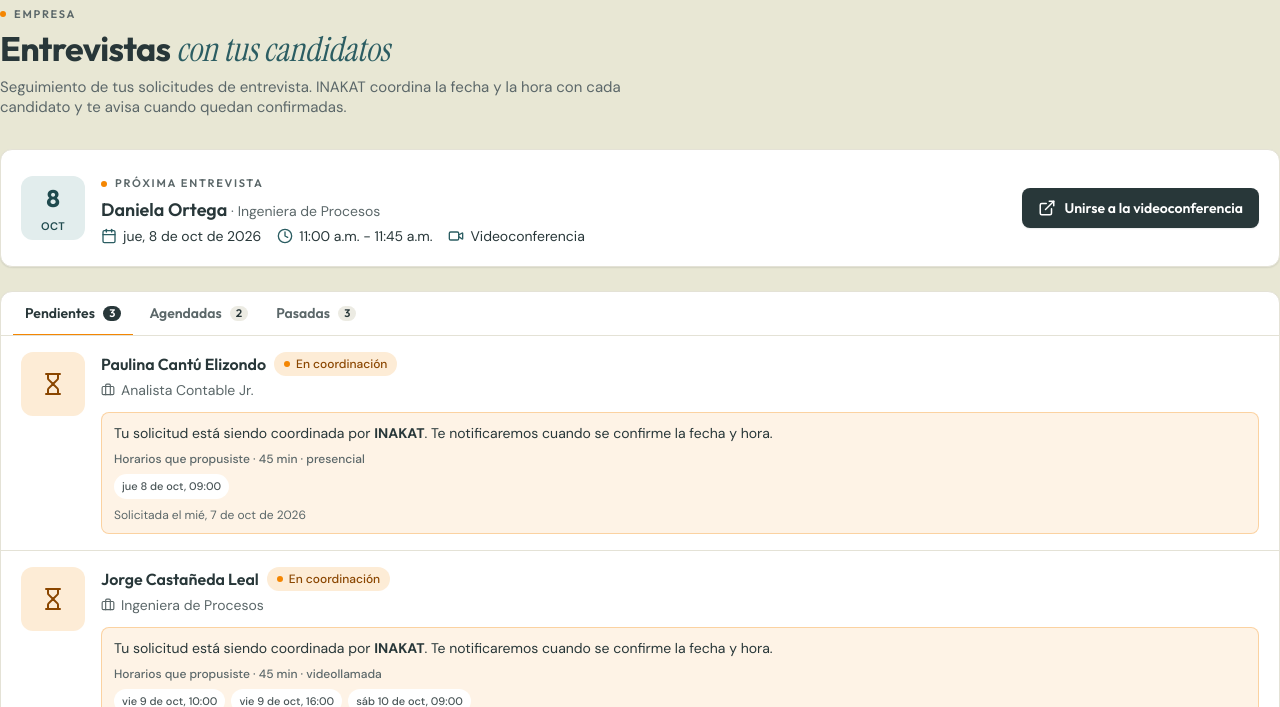
Test: Entrevistas › monta con la próxima entrevista y las pestañas
Expected: the heading "Entrevistas con tus candidatos" is shown, [0, 27, 390, 72]
Expected: the heading "Próxima entrevista" is shown, [101, 175, 264, 192]
Click the tab "Pasadas 3" at (316, 314), box [264, 292, 368, 336]
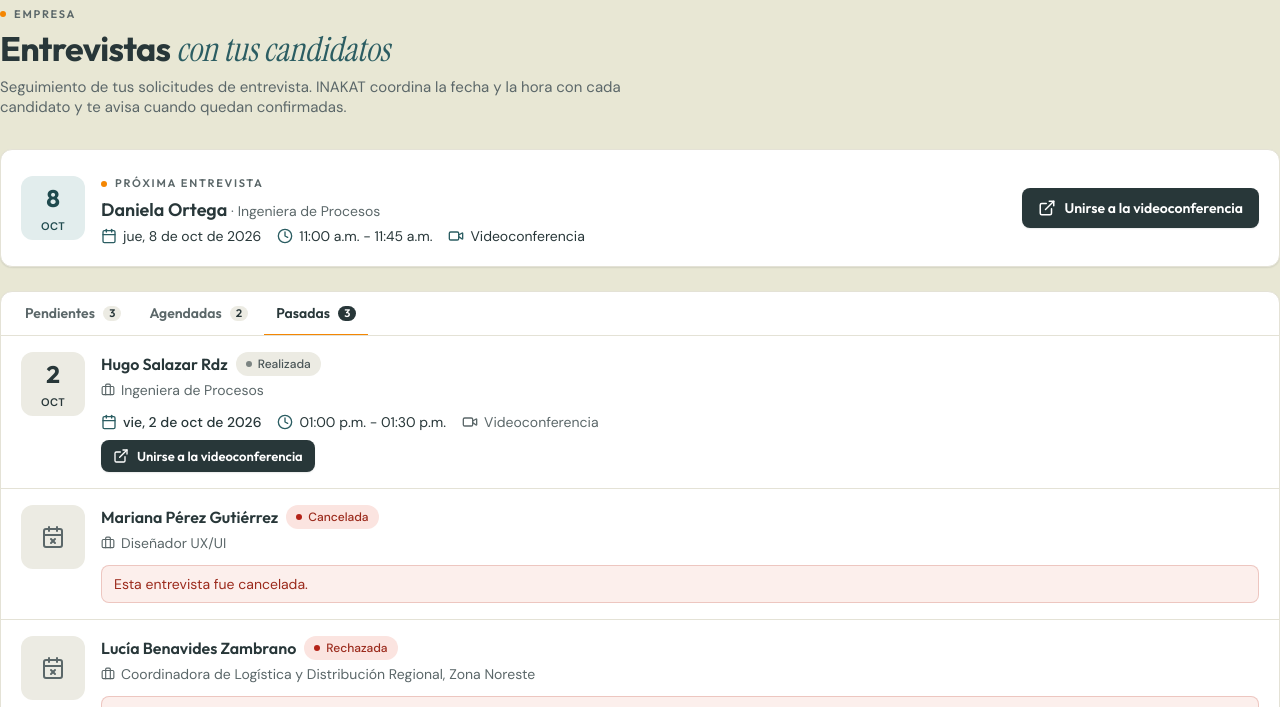
Expected: the text "Esta entrevista fue cancelada." is shown, [101, 565, 1259, 603]
